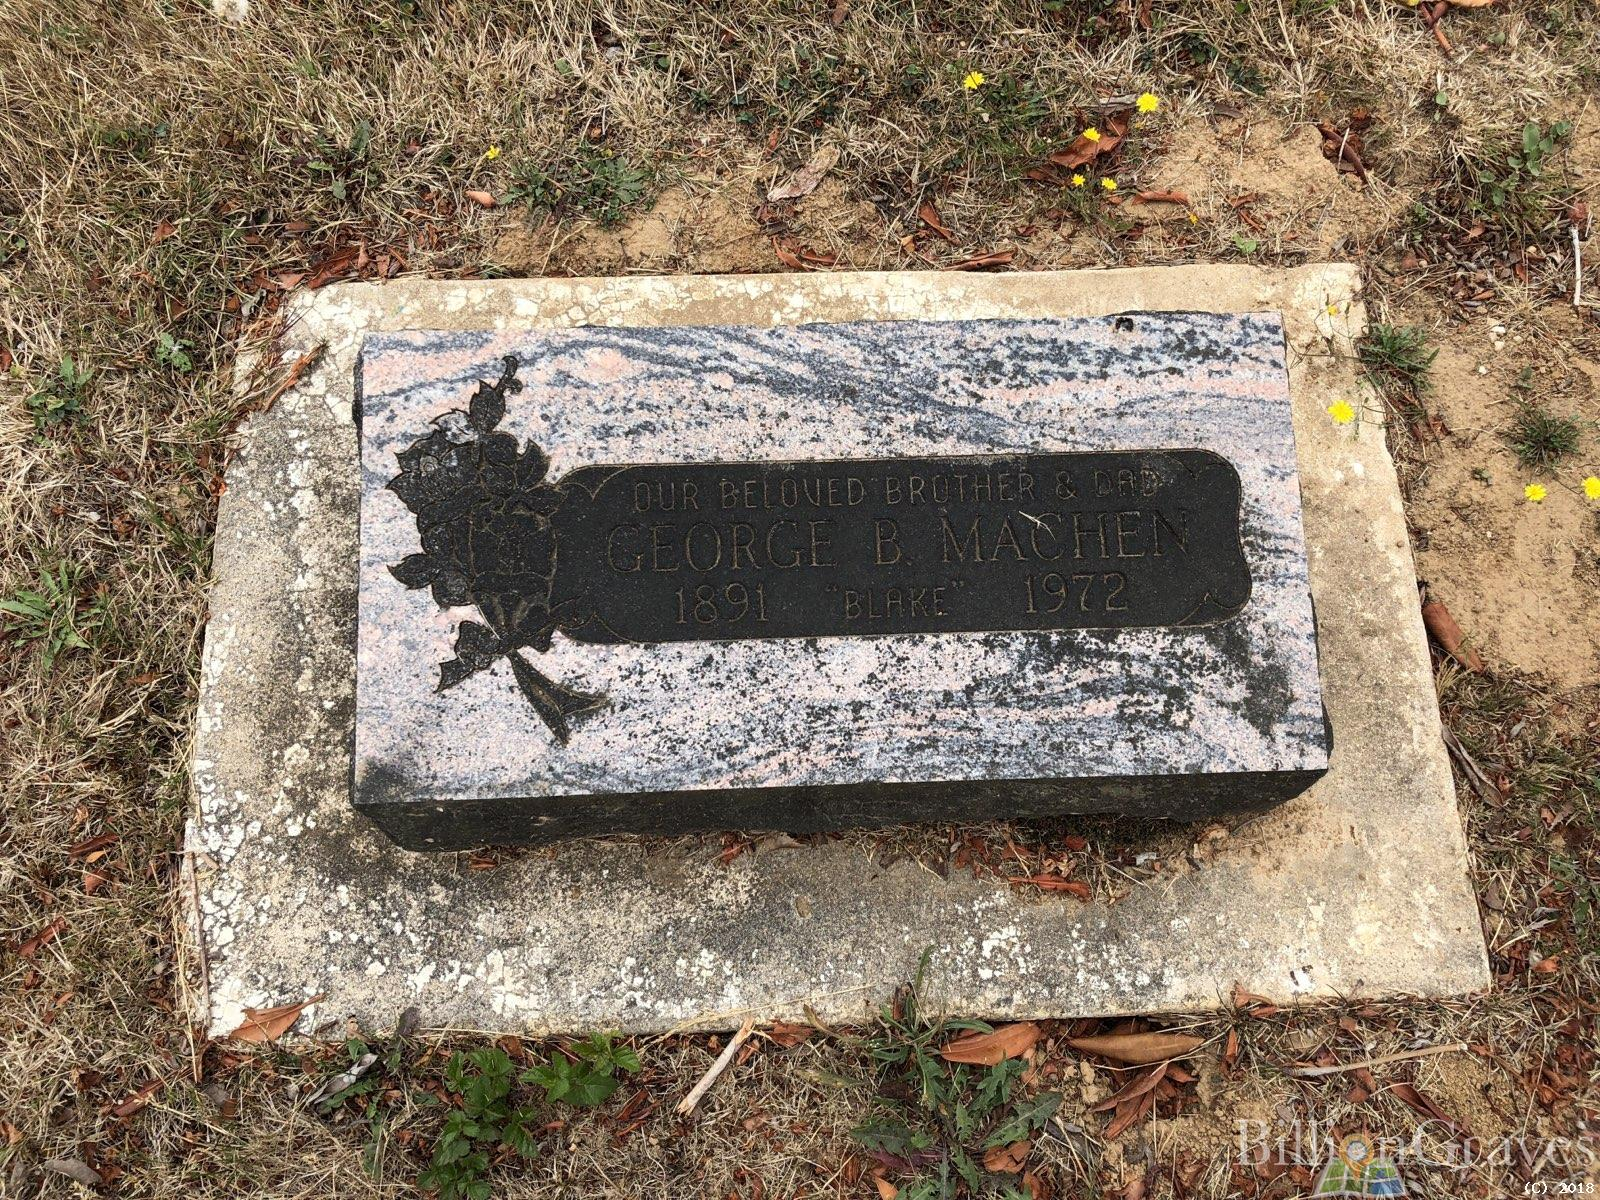flat: (161, 258, 1492, 1034)
